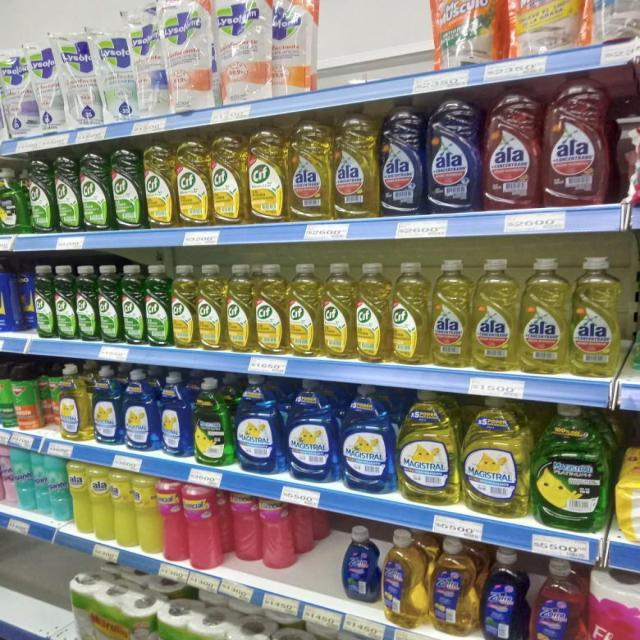ala_conc_amarillo: (570, 255, 624, 378), (520, 256, 568, 375), (472, 256, 518, 372), (334, 113, 378, 219), (287, 119, 332, 221), (430, 257, 470, 369)
ala_conc_azul: (426, 95, 481, 213), (380, 103, 425, 216)
ala_conc_rojo: (543, 79, 611, 207), (484, 88, 540, 211)
ala_crem_amarillo: (91, 464, 111, 542), (69, 460, 89, 536)
cif_conc_bot_amarilla: (392, 259, 429, 366), (248, 126, 285, 224), (356, 261, 390, 364), (210, 132, 246, 226), (322, 262, 355, 361), (288, 262, 320, 358), (177, 136, 210, 228), (255, 263, 286, 355), (144, 140, 175, 229), (226, 263, 254, 354), (198, 264, 225, 352), (171, 264, 197, 349)
cif_conc_botella_verde: (111, 145, 142, 230), (80, 148, 110, 232), (27, 154, 54, 233), (145, 264, 170, 347), (55, 152, 79, 233), (122, 263, 144, 346), (98, 264, 120, 344), (76, 264, 97, 342), (55, 264, 75, 340), (34, 264, 54, 339)
magistral_con_amarillo: (462, 396, 528, 518), (398, 390, 458, 505), (57, 363, 90, 443)
magistral_con_azul: (340, 384, 394, 494), (286, 378, 337, 483), (235, 374, 282, 475), (124, 368, 157, 454), (160, 371, 192, 458), (93, 365, 121, 447)
magistral_con_crema: (614, 413, 640, 545)
magistral_con_verde: (532, 403, 611, 531)
zorro: (430, 535, 477, 637), (530, 555, 584, 640), (382, 528, 426, 628), (481, 546, 527, 640)
